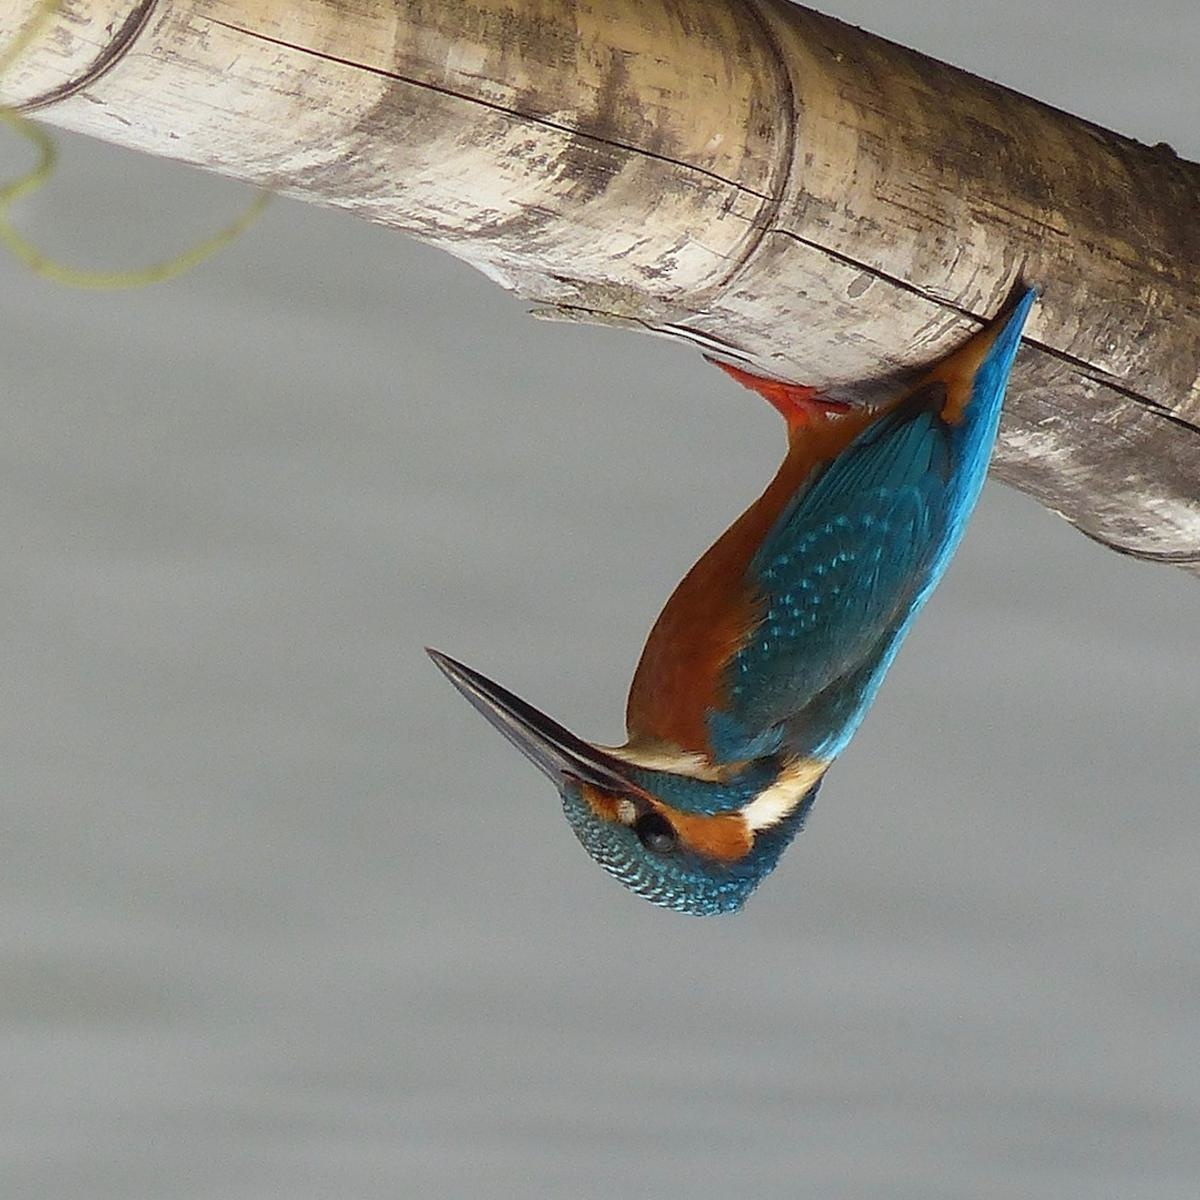kingfisher: (426, 266, 1051, 932)
